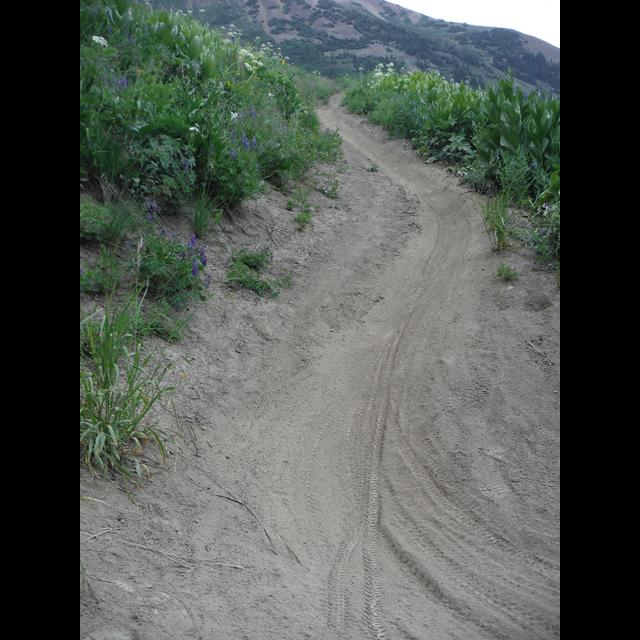Flower: (80, 2, 292, 162), (369, 62, 405, 84), (198, 250, 210, 264), (145, 200, 153, 212), (192, 260, 198, 276), (190, 232, 196, 244), (152, 204, 160, 212), (148, 213, 152, 220)
